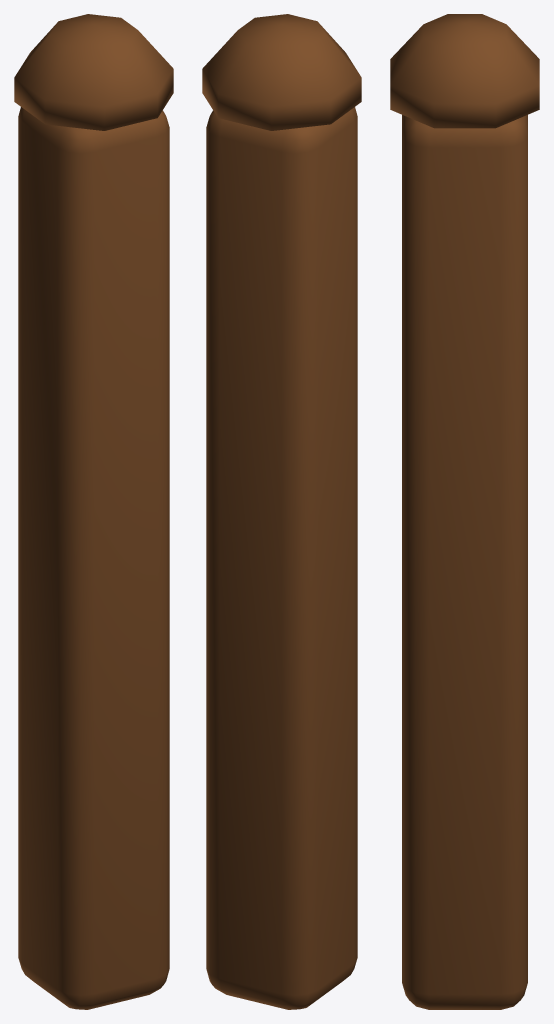
The model's file is fence_post.glb.
3 views of the same model, side by side, from view 1: azimuth 30°, elevation 25°; view 2: azimuth 150°, elevation 25°; view 3: azimuth 270°, elevation 25° (orthographic).
Visible parts, largest first — view 1: fence_post; view 2: fence_post; view 3: fence_post.
Part boxes in pixels (x1=…): fence_post: x1=14, y1=14, x2=173, y2=1009; fence_post: x1=202, y1=14, x2=361, y2=1009; fence_post: x1=390, y1=14, x2=539, y2=1009.
Bounding box in the file's own units: 0.1663 × 1.19 × 0.1663.
